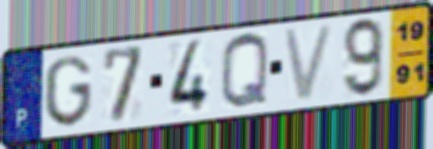4: (166, 36, 212, 118)
7: (100, 44, 146, 127)
9: (341, 16, 386, 100)
G: (42, 52, 95, 129)
Q: (218, 31, 271, 113)
V: (280, 21, 339, 105)
